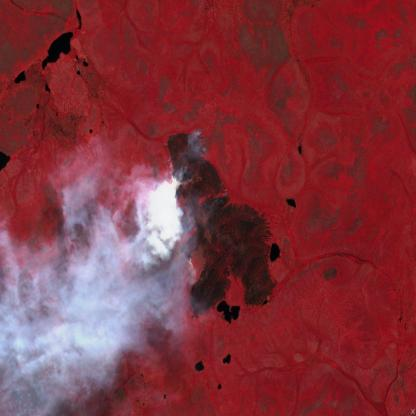fire: (155, 124, 213, 268)
